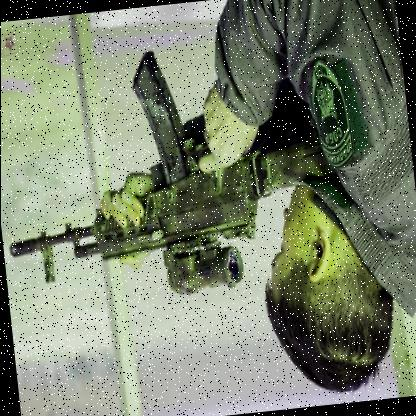rifle: (0, 31, 356, 314)
